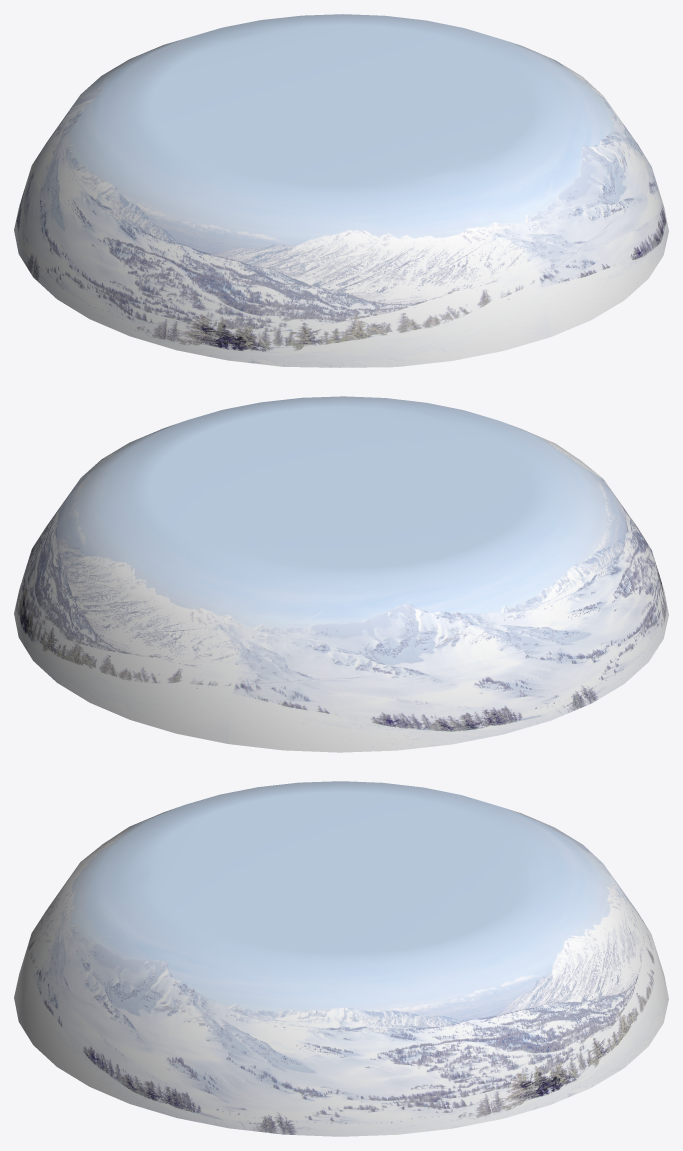
The model's file is Snow_Panorama.fbx.
The picture shows the model from 3 angles, top to bottom: view 1: azimuth 30°, elevation 25°; view 2: azimuth 150°, elevation 25°; view 3: azimuth 270°, elevation 25°; orthographic projection.
Parts seen in each view (by area): view 1: Snow_Mountains; view 2: Snow_Mountains; view 3: Snow_Mountains.
Boxes of the visible parts, x1=… form: Snow_Mountains: x1=14, y1=14, x2=668, y2=367; Snow_Mountains: x1=14, y1=396, x2=668, y2=752; Snow_Mountains: x1=14, y1=781, x2=668, y2=1136.
Size of the model in its own units: 443 by 93.73 by 443.
Materials: 1 (1 with a texture image).
